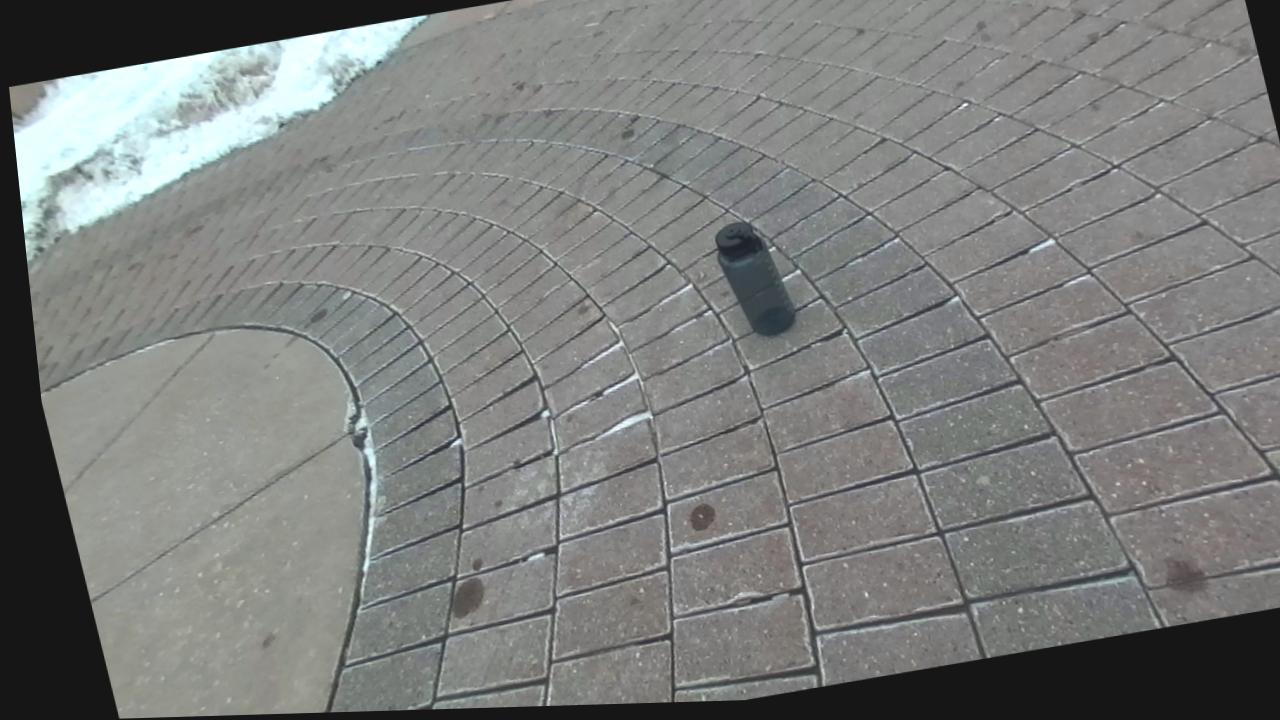bottle: (714, 221, 794, 335)
